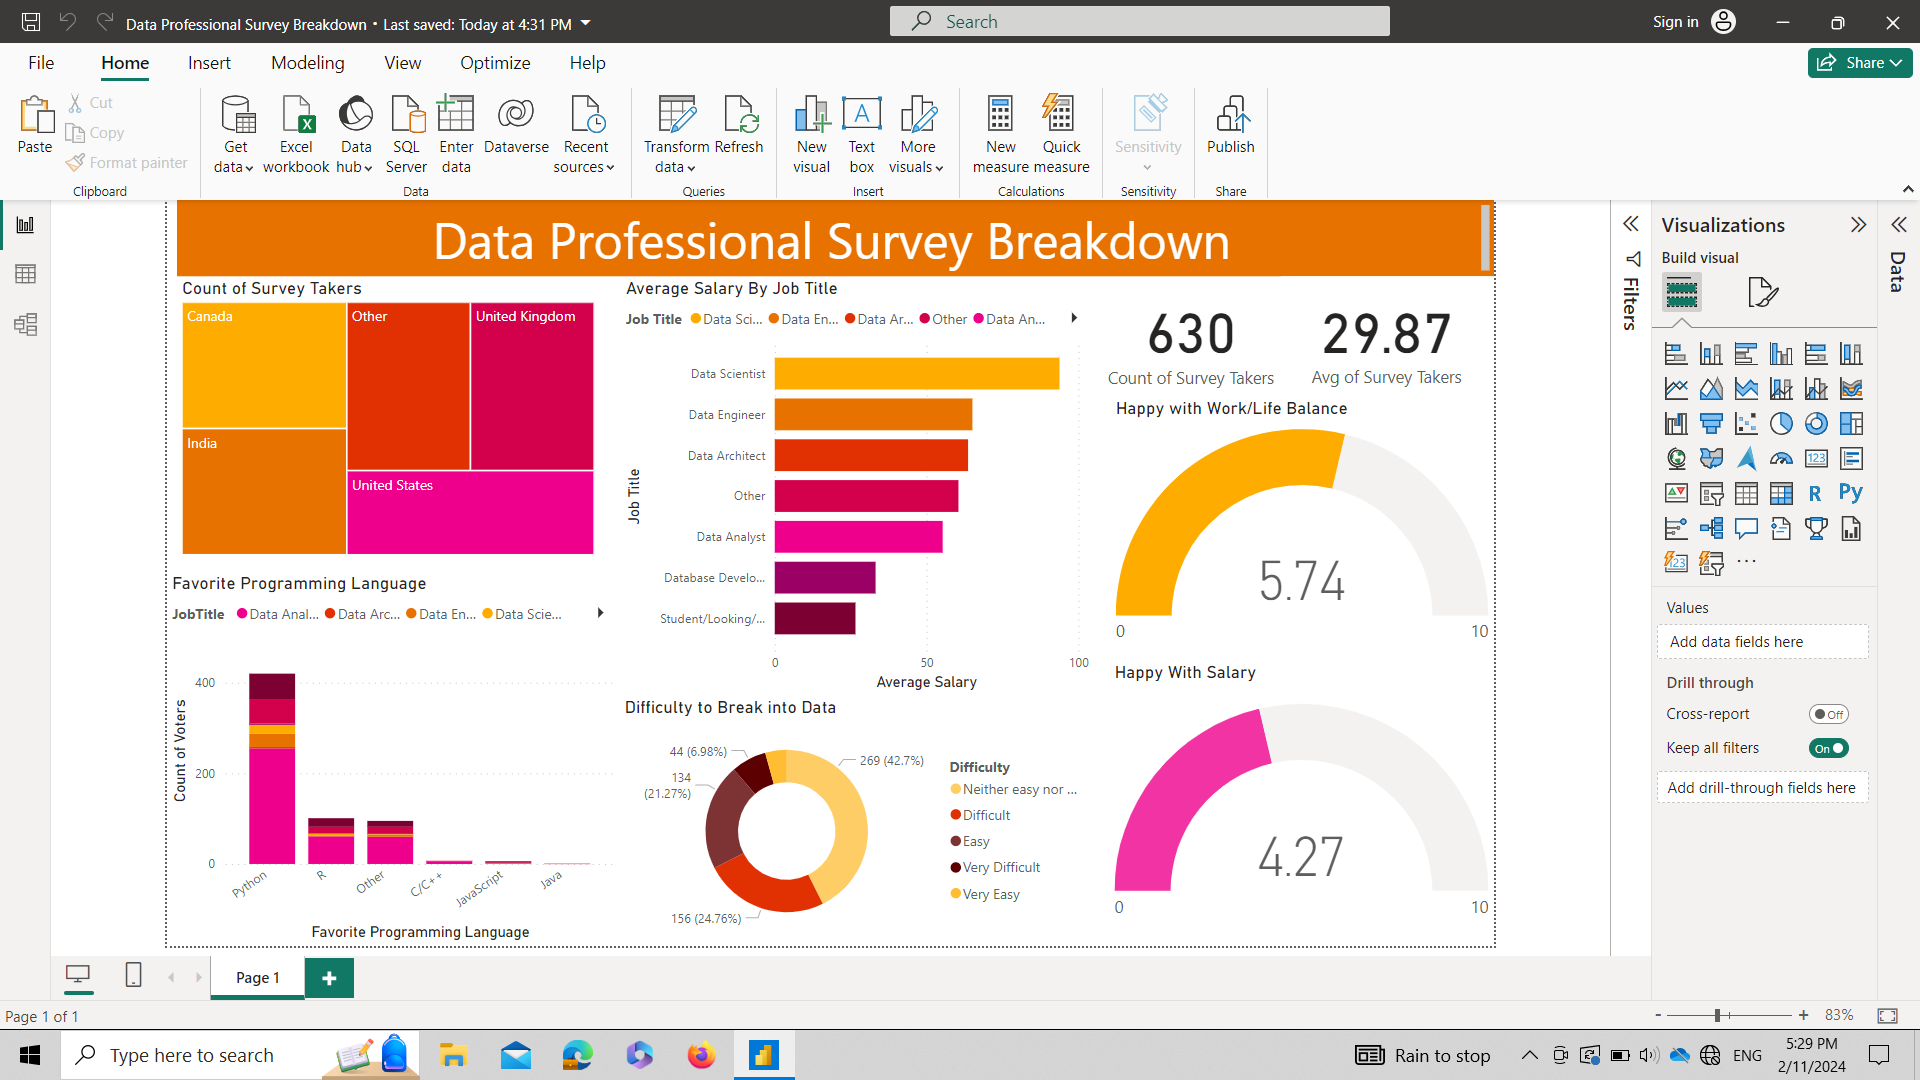

The page's visual inventory and layout, read from the dashboard file:
{"tool":"powerbi","page":{"name":"Page 1","canvas":[1280,720],"ordinal":0},"visuals":[{"type":"textbox","box":[9.6,0,1271.2,73.6],"z":0},{"type":"card","fields":{"Values":["CountNonNull(Data Professional Survey.Unique ID)"]},"box":[875.3,75,225,115.9],"z":1000},{"type":"card","fields":{"Values":["Avg(Data Professional Survey.Q10 - Current Age)"]},"box":[1074.4,73.6,204.5,117.3],"z":2000},{"type":"barChart","title":"Average Salary By Job Title","fields":{"Category":["Data Professional Survey.Q1 - Which Title Best Fits your Current Role?.1"],"Y":["Avg(Data Professional Survey.Average Salary)"],"Series":["Data Professional Survey.Q1 - Which Title Best Fits your Current Role?.1"]},"box":[437.7,75,456.8,403.6],"z":3000},{"type":"columnChart","title":"Favorite Programming Language","fields":{"Category":["Data Professional Survey.Q5 - Favorite Programming Language.1"],"Y":["CountNonNull(Data Professional Survey.Unique ID)"],"Series":["Data Professional Survey.Q1 - Which Title Best Fits your Current Role?.1"]},"box":[0,360,437.7,360],"z":4000},{"type":"treemap","title":"Count of Survey Takers","fields":{"Group":["Data Professional Survey.Q11 - Which Country do you live in?.1"],"Values":["Count(Data Professional Survey.Q11 - Which Country do you live in?.1)"]},"box":[9.5,75,407.7,272.7],"z":5000},{"type":"gauge","title":"Happy With Salary","fields":{"Y":["Avg(Data Professional Survey.Q6 - How Happy are you in your Current Position with the following? (Salary))"],"MinValue":["Min(Data Professional Survey.Q6 - How Happy are you in your Current Position with the following? (Salary))"],"MaxValue":["Max(Data Professional Survey.Q6 - How Happy are you in your Current Position with the following? (Salary))"]},"box":[909.4,444.5,370.9,275.4],"z":5001},{"type":"gauge","title":"Happy with Work/Life Balance","fields":{"Y":["Avg(Data Professional Survey.Q6 - How Happy are you in your Current Position with the following? (Work/Life Balance))"],"MinValue":["Min(Data Professional Survey.Q6 - How Happy are you in your Current Position with the following? (Work/Life Balance))1"],"MaxValue":["Max(Data Professional Survey.Q6 - How Happy are you in your Current Position with the following? (Work/Life Balance))2"]},"box":[910.8,190.9,369.5,253.6],"z":5002},{"type":"donutChart","title":"Difficulty to Break into Data","fields":{"Category":["Data Professional Survey.Q7 - How difficult was it for you to break into Data?"],"Y":["CountNonNull(Data Professional Survey.Q7 - How difficult was it for you to break into Data?)"]},"box":[436.3,478.6,458.1,241.3],"z":5003}]}

Visuals, with their boxes on the page's 1280x720 design canvas (x1, y1, x2, y2). These are canvas units, not pixel positions in the 1920x1080 screenshot, which may show the page scaled, cropped or inside an application window:
textbox: 10:0:1281:74
card - CountNonNull(Data Professional Survey.Unique ID): 875:75:1100:191
card - Avg(Data Professional Survey.Q10 - Current Age): 1074:74:1279:191
"Average Salary By Job Title" barChart: 438:75:894:479
"Favorite Programming Language" columnChart: 0:360:438:720
"Count of Survey Takers" treemap: 10:75:417:348
"Happy With Salary" gauge: 909:444:1280:720
"Happy with Work/Life Balance" gauge: 911:191:1280:444
"Difficulty to Break into Data" donutChart: 436:479:894:720
